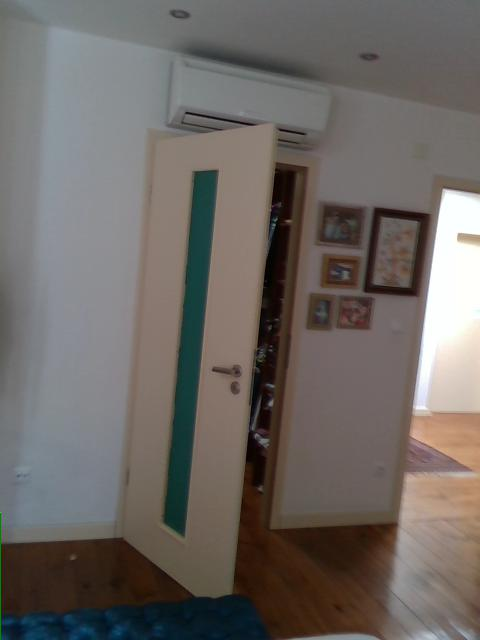semi_door: (114, 117, 320, 608)
